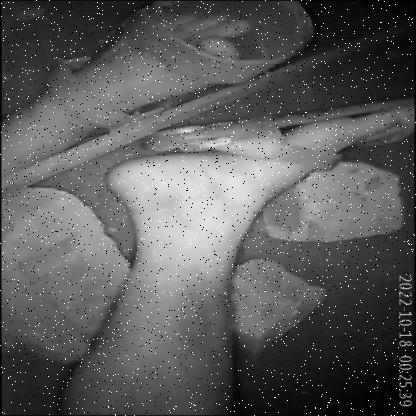leg: (57, 91, 416, 415), (0, 0, 319, 174)
